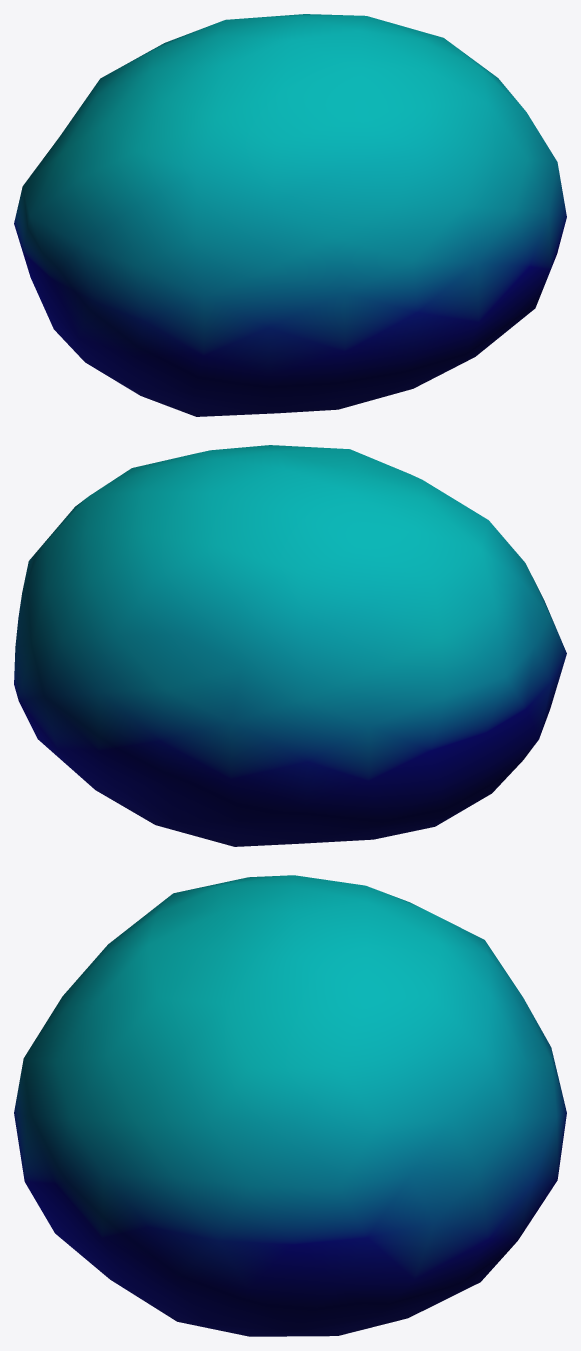
The model's file is RockRounded_1_lod1.glb.
3 views of the same model, one above another, from view 1: azimuth 30°, elevation 25°; view 2: azimuth 150°, elevation 25°; view 3: azimuth 270°, elevation 25° (orthographic). The views are drawn at different scales.
Parts seen in each view (by area): view 1: RockRounded_1_lod1; view 2: RockRounded_1_lod1; view 3: RockRounded_1_lod1.
Part boxes in pixels (box(x1,y1,x2,y2)): RockRounded_1_lod1: box(14, 14, 566, 416); RockRounded_1_lod1: box(14, 445, 566, 846); RockRounded_1_lod1: box(14, 875, 566, 1336).
Bounding box in the file's own units: 1.58 × 1.02 × 1.41.
